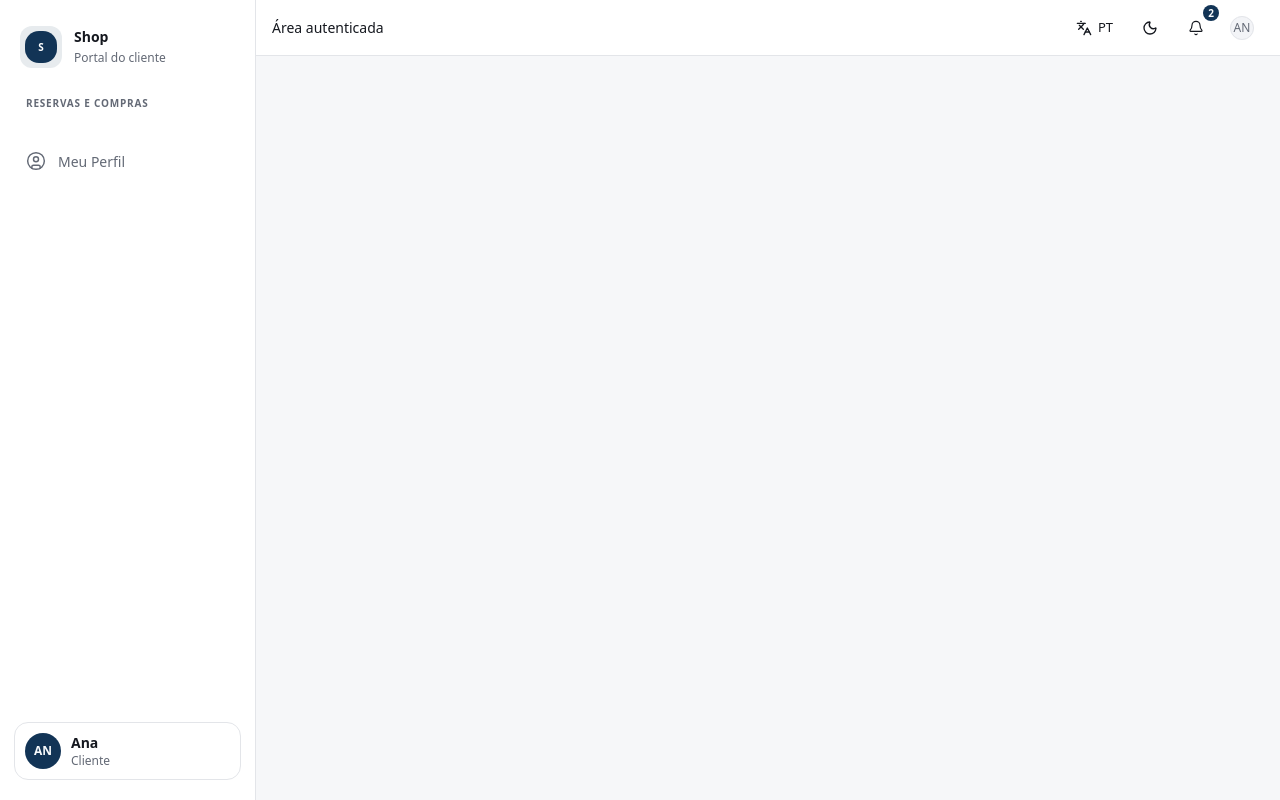
Test case: reuses localized notification labels in pt-BR
The image size is (1280, 800).
Click the button named "Notificações: 2 não lidas" at (1196, 28), box [1174,6,1218,50]
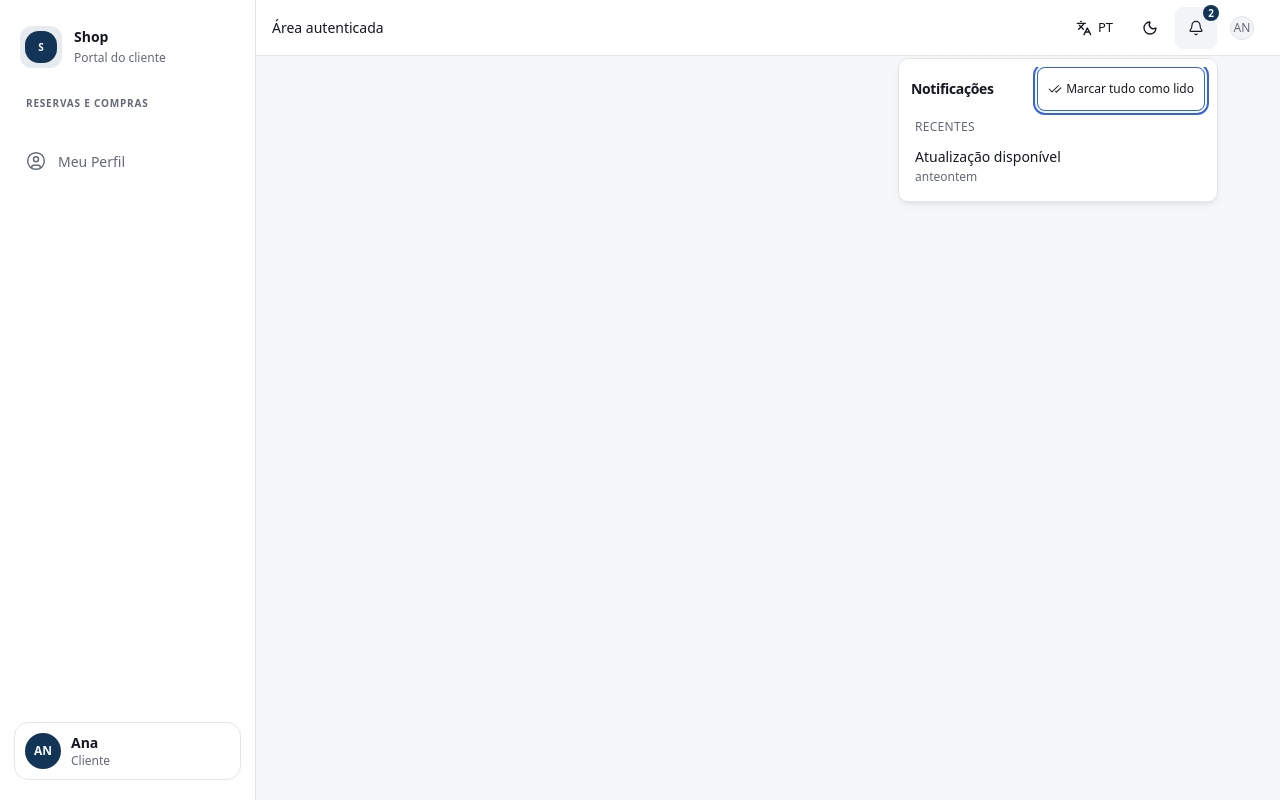
Now the button "Marcar tudo como lido" is shown, box [1037,67,1205,111]
